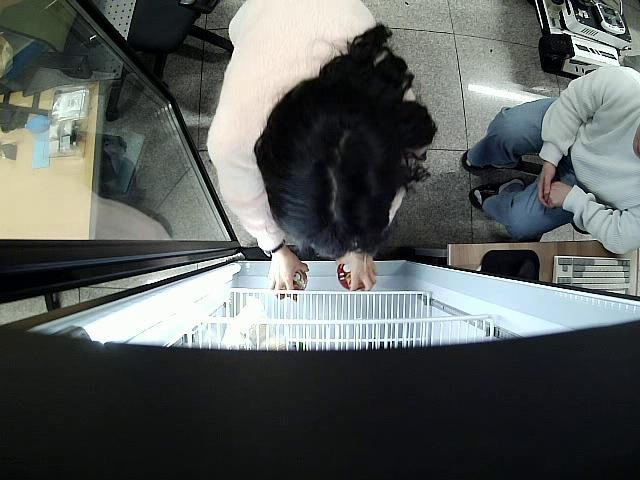06_nuguri_S: (337, 262, 366, 289), (278, 268, 308, 293)
